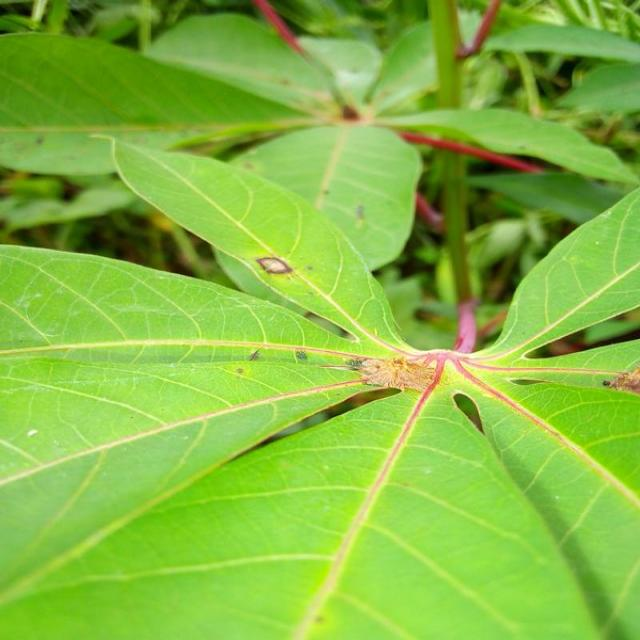cassava leaf: (2, 4, 639, 638), (109, 130, 418, 354)
